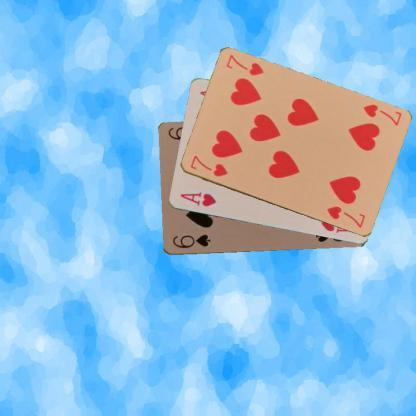6s: (170, 232, 211, 250)
7h: (360, 102, 403, 128), (187, 152, 229, 178)
Ah: (178, 190, 218, 209)
